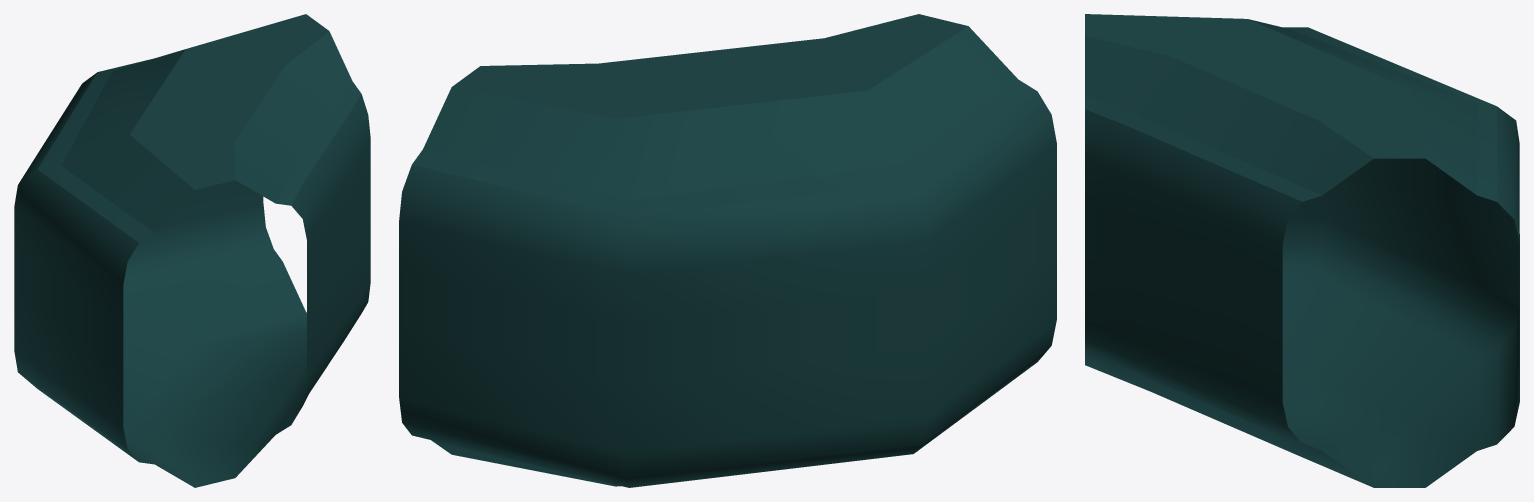
The model's file is OutsideCorridor_01.fbx.
The picture shows the model from 3 angles, left to right: view 1: azimuth 30°, elevation 25°; view 2: azimuth 150°, elevation 25°; view 3: azimuth 270°, elevation 25°; orthographic projection. The views are drawn at different scales.
Visible parts, largest first — view 1: OutsideCorridor_01; view 2: OutsideCorridor_01; view 3: OutsideCorridor_01.
Part boxes in pixels (x1,y1,x2,y2): OutsideCorridor_01: (14, 14, 370, 487); OutsideCorridor_01: (399, 14, 1056, 487); OutsideCorridor_01: (1085, 14, 1519, 487).
Bounding box in the file's own units: 1120 × 1127 × 947.
